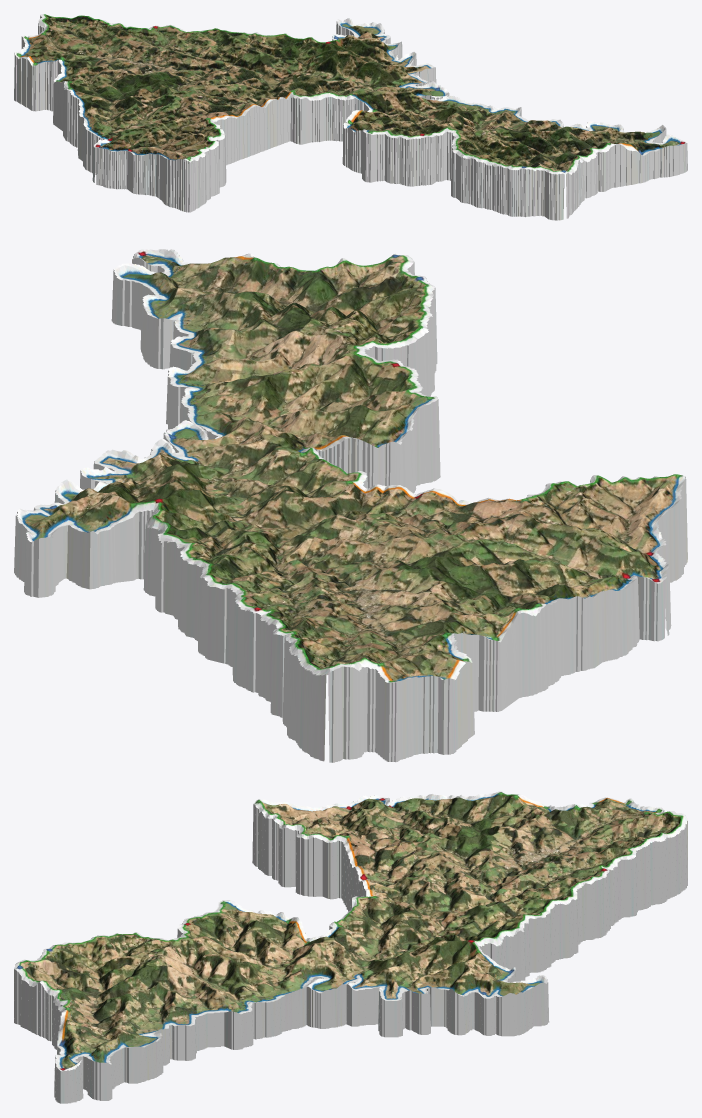
3 views of the same model, one above another, from view 1: azimuth 30°, elevation 25°; view 2: azimuth 150°, elevation 25°; view 3: azimuth 270°, elevation 25° (orthographic). The views are drawn at different scales.
Size of the model in its own units: 0.9999 by 0.1183 by 1.07.
1 material, 1 textured.
